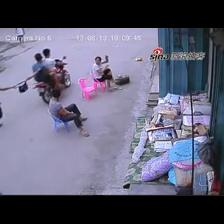person: (49, 89, 89, 136), (26, 54, 62, 88), (92, 56, 116, 90), (43, 49, 62, 80), (0, 86, 14, 128), (43, 49, 55, 69), (16, 28, 25, 42)
